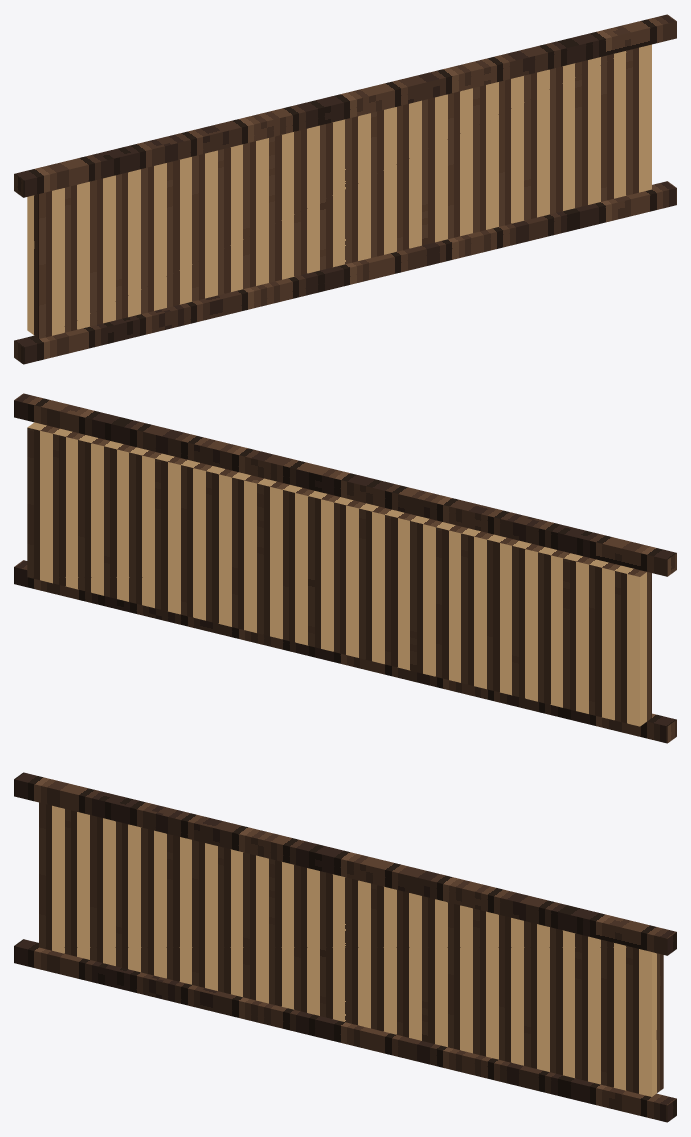
File: JP_Window_Loft_3m.glb
3 views of the same model, one above another, from view 1: azimuth 30°, elevation 25°; view 2: azimuth 150°, elevation 25°; view 3: azimuth 330°, elevation 25° (orthographic).
Parts seen in each view (by area): view 1: JP_Window_Loft_3m; view 2: JP_Window_Loft_3m; view 3: JP_Window_Loft_3m.
Part boxes in pixels (x1=…): JP_Window_Loft_3m: x1=14, y1=14, x2=676, y2=364; JP_Window_Loft_3m: x1=14, y1=393, x2=676, y2=743; JP_Window_Loft_3m: x1=14, y1=772, x2=676, y2=1122.
Size of the model in its own units: 3.2 by 0.86 by 0.14.
Materials: 2 (2 with a texture image).
